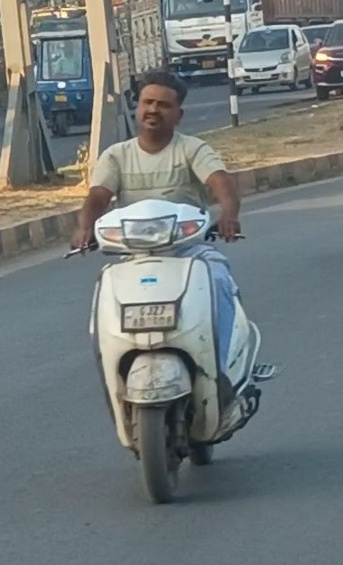BikeWithRider: (56, 64, 286, 509)
NoHelmet: (128, 66, 192, 142)
